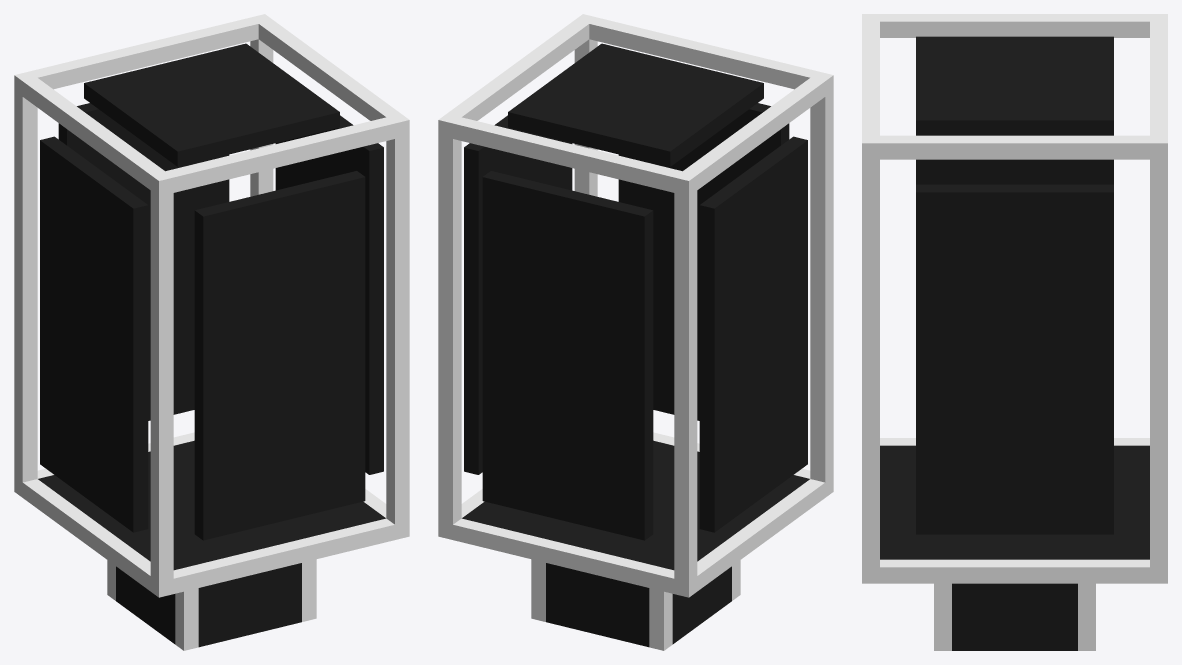
Rendered from neon_tree2.obj.
3 renders of one model, left to right at view 1: azimuth 30°, elevation 25°; view 2: azimuth 150°, elevation 25°; view 3: azimuth 270°, elevation 25°, orthographic. The views are drawn at different scales.
Size of the model in its own units: 17 by 33 by 17.
Materials: 1 (1 with a texture image).
